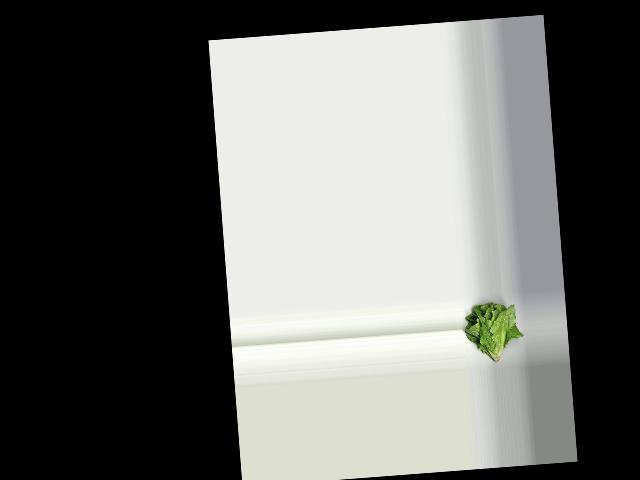lettuce: (463, 297, 519, 366)
